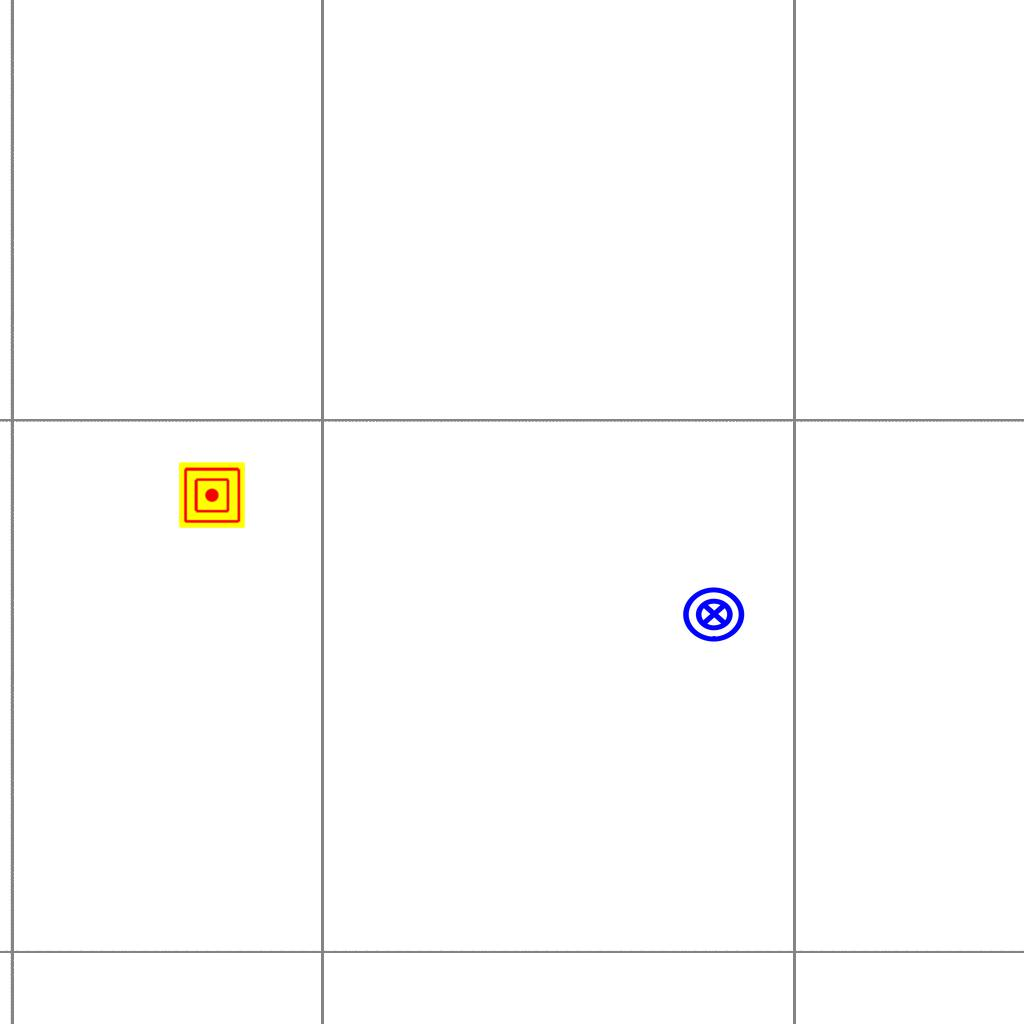NAM-Nichtautomatischer_Melder: (179, 462, 245, 528)
Taster_beleuchtet: (681, 581, 747, 647)
